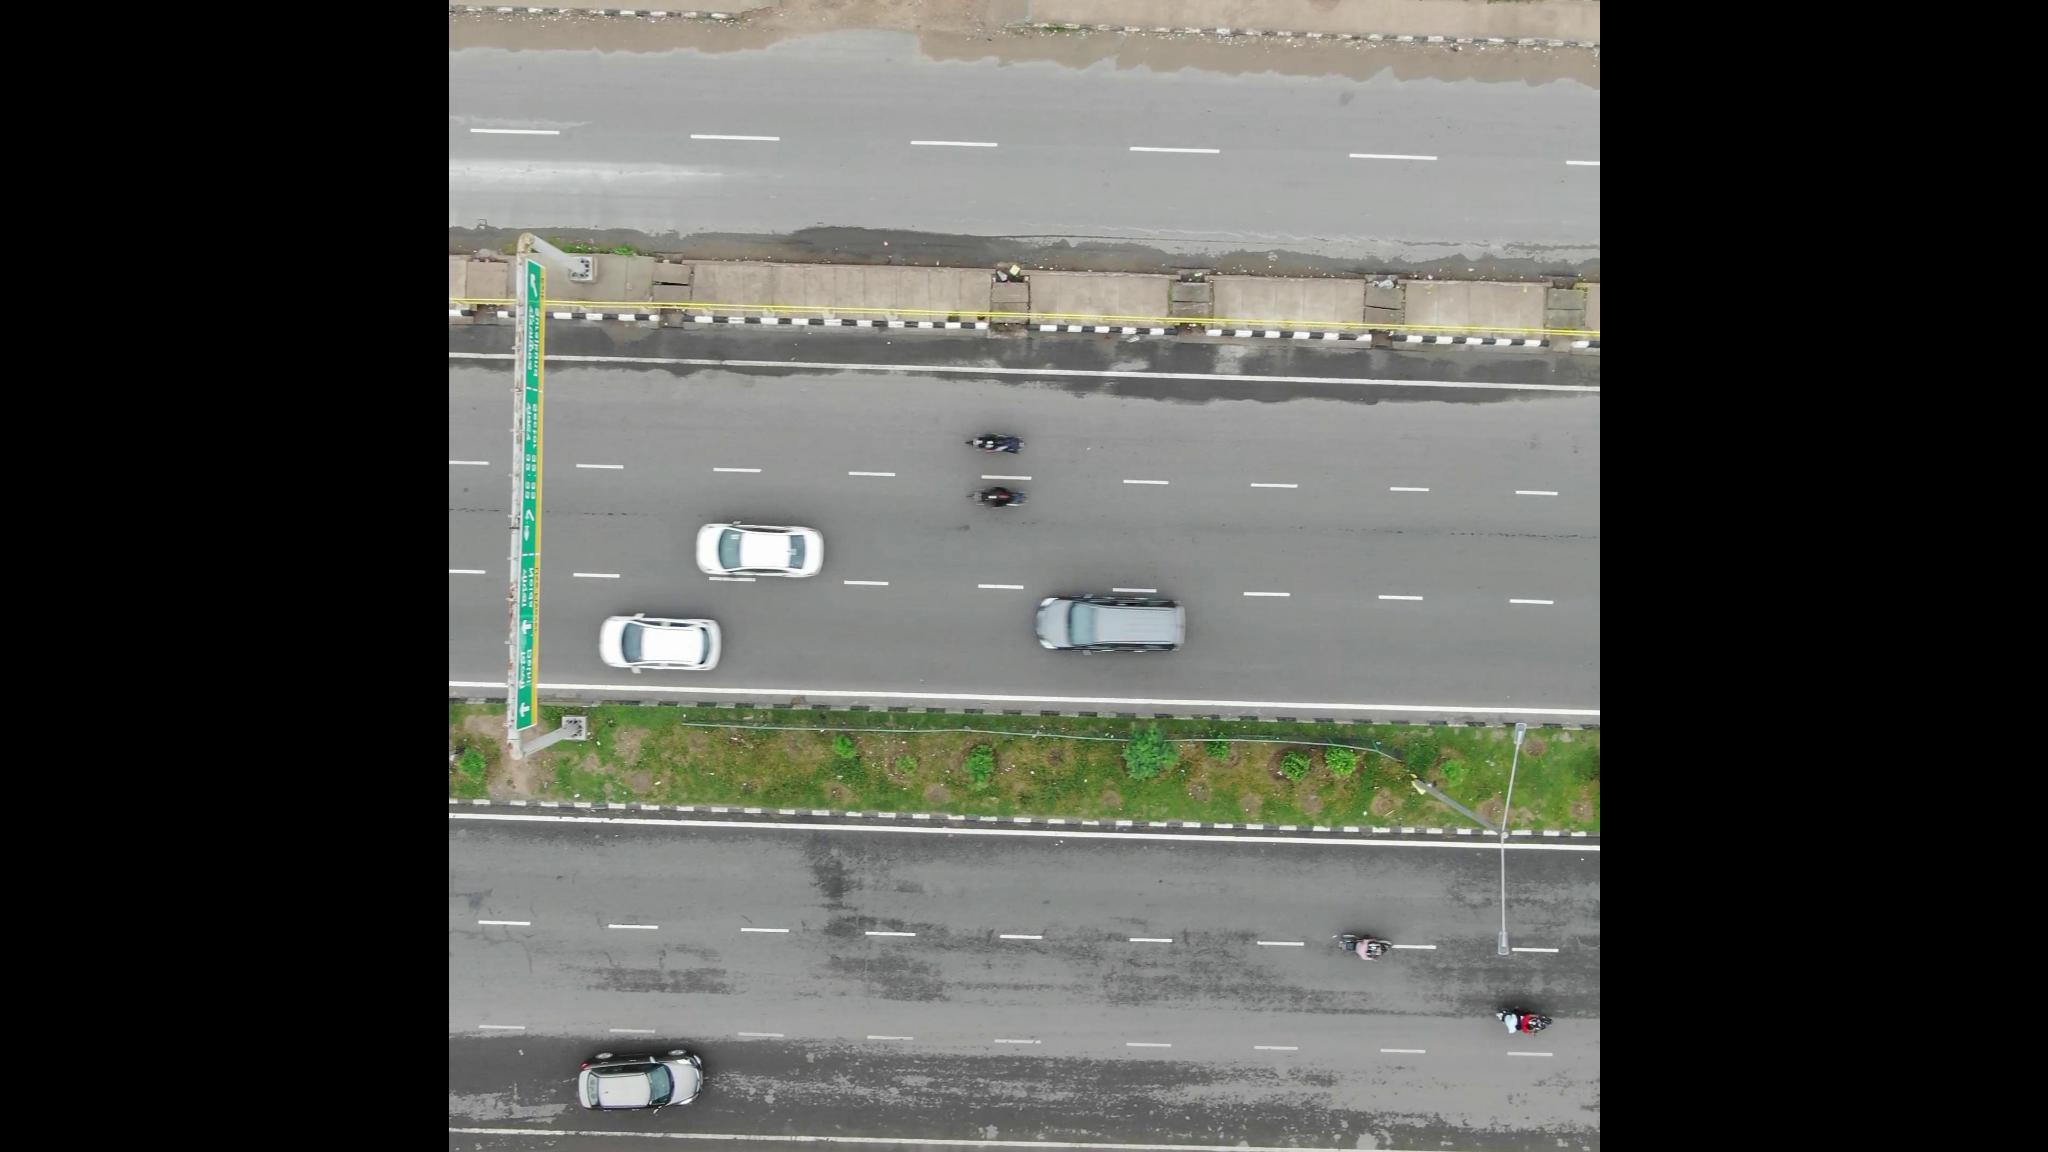Muddy_road: (955, 24, 1317, 96), (1326, 24, 1587, 98), (459, 13, 734, 69)
